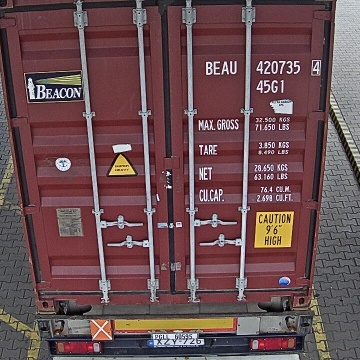serial_id: (205, 60, 320, 74)
